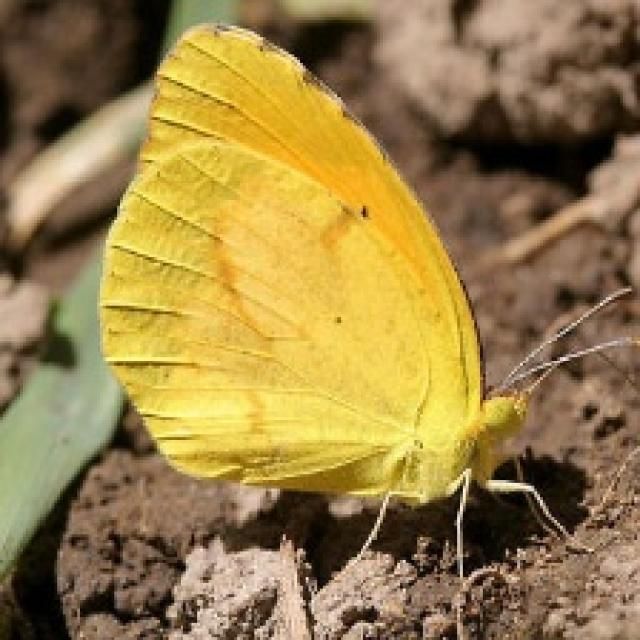butterfly: (94, 17, 637, 577)
